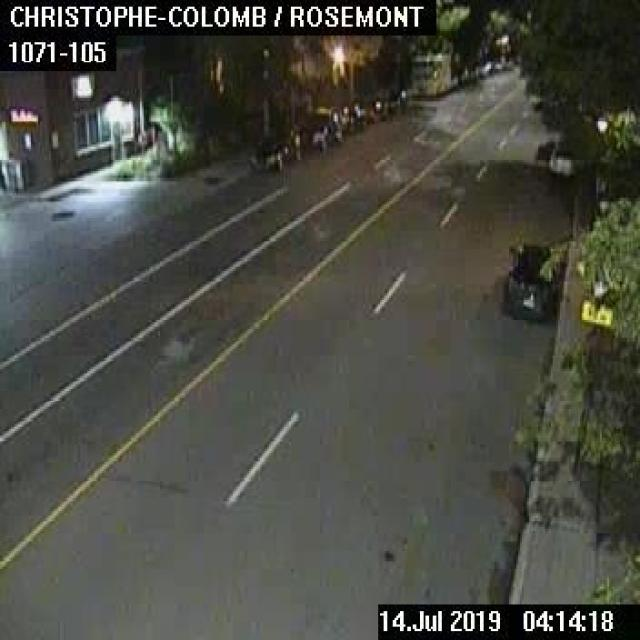vehicle: (500, 240, 560, 322), (246, 126, 298, 172), (408, 51, 451, 95), (300, 105, 340, 150), (548, 140, 575, 176), (340, 103, 364, 132)
